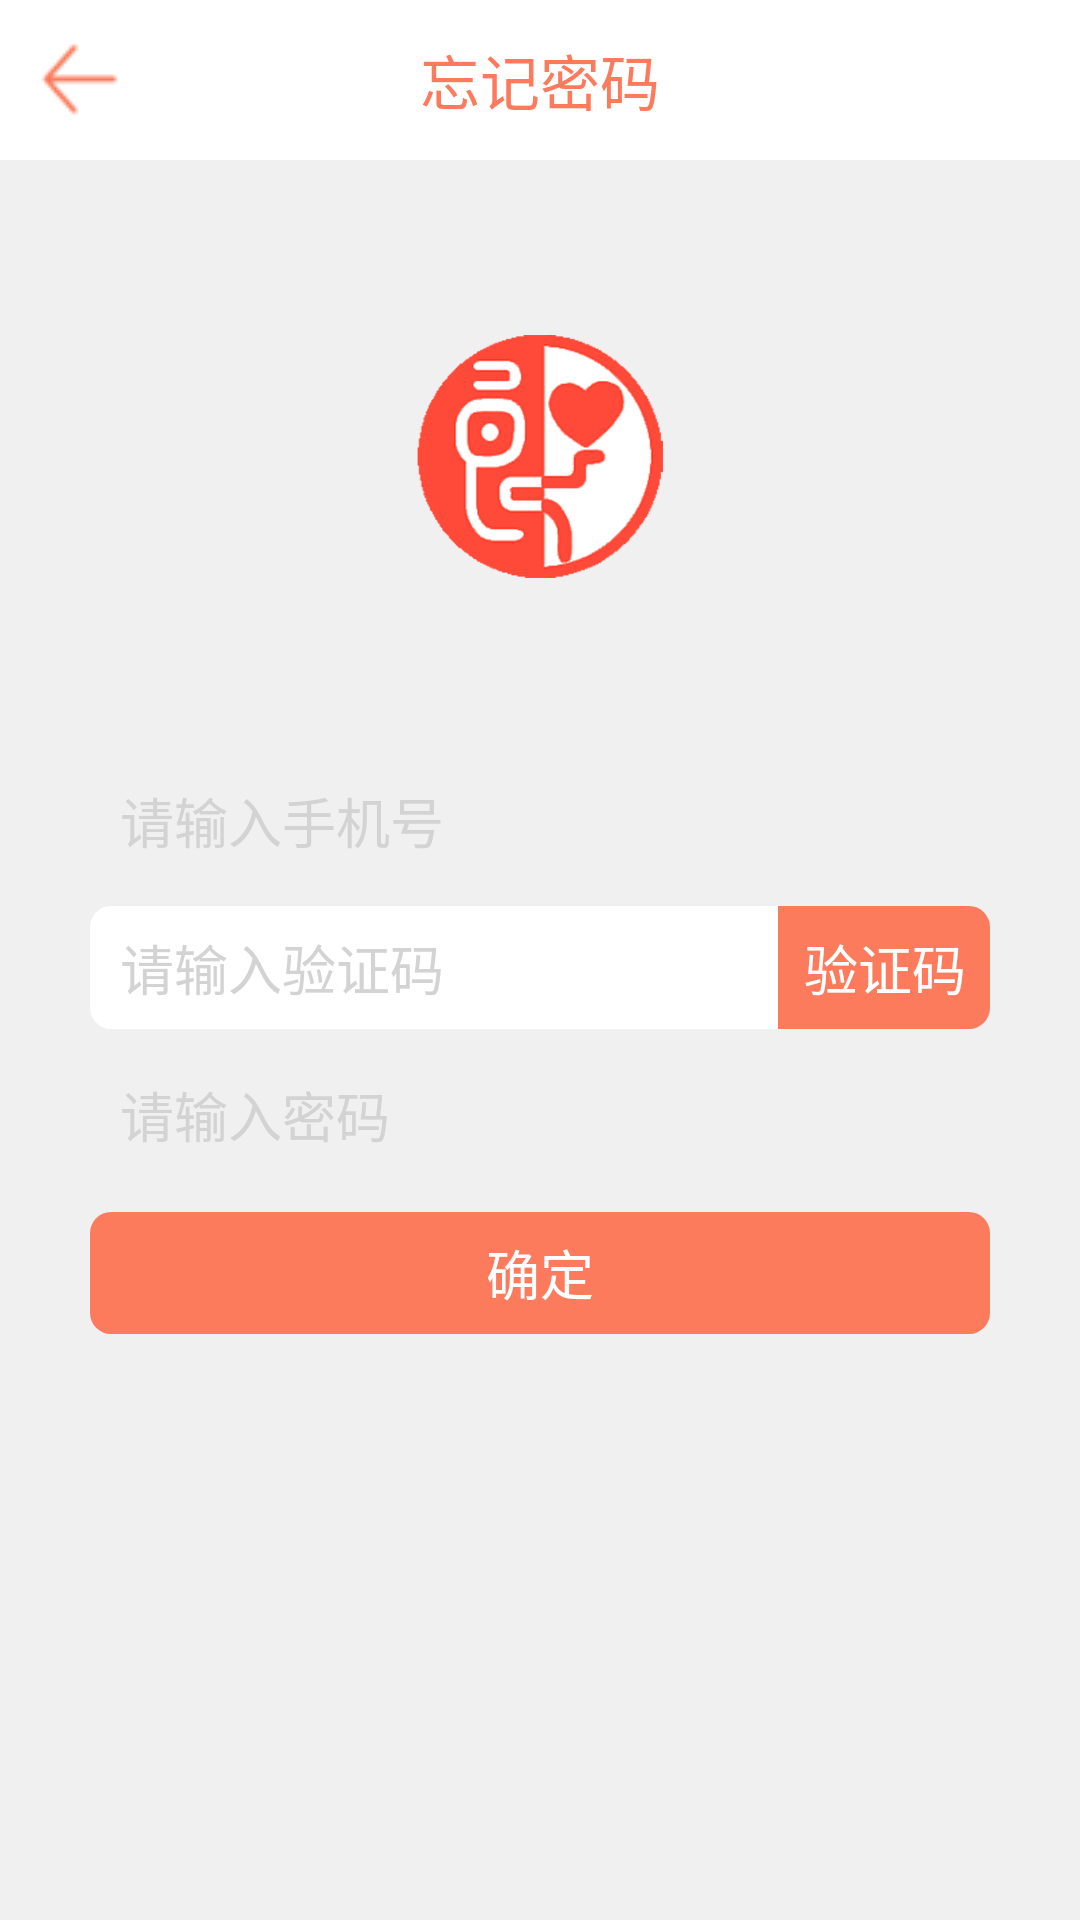

Icons on this 1080px x 1920px Android screen, each with its box as (x1=x1, y1=y1, x2=x2, y2=y2):
zuo: (x1=42, y1=44, x2=118, y2=115)
